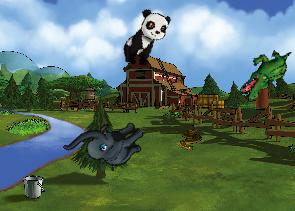crocodile: (237, 39, 293, 108)
elephant: (62, 99, 151, 187)
panda: (118, 5, 173, 72)
